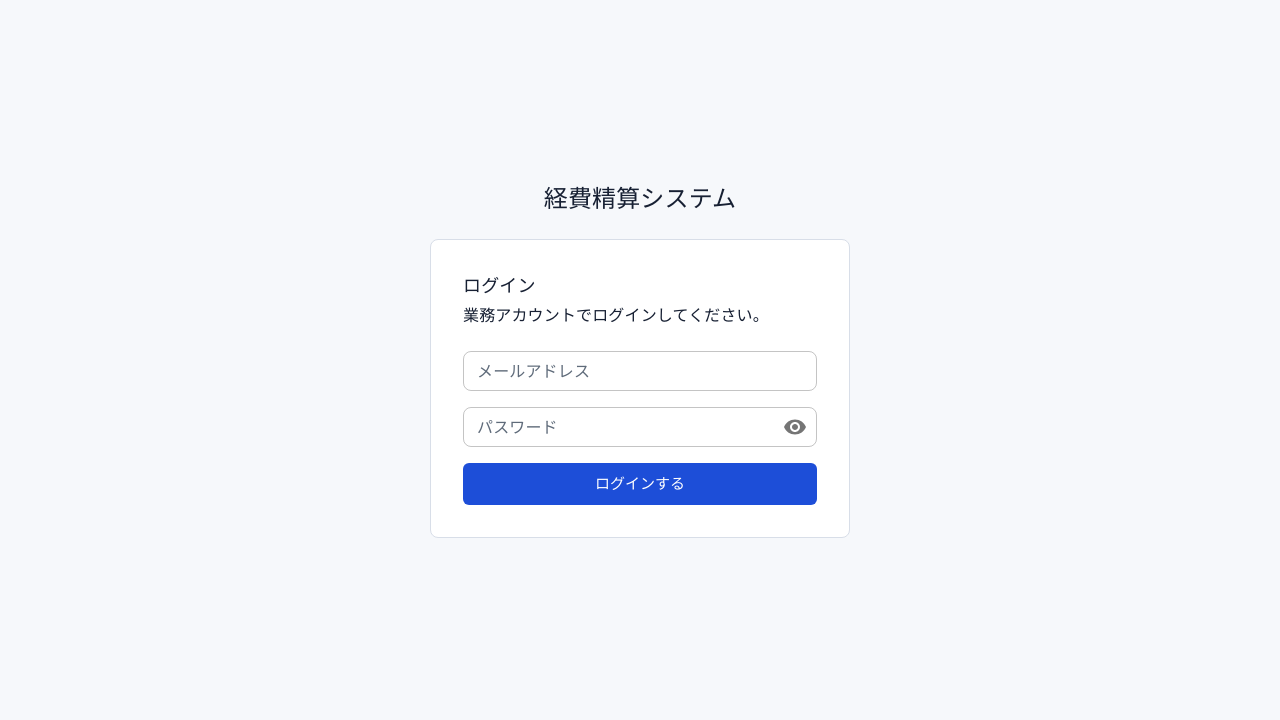
Test: App › 未保存の新規申請で必須項目を検証する
In the field labelled "メールアドレス": point(640, 371) x1=463 y1=351 x2=817 y2=391, type "user@example.com"
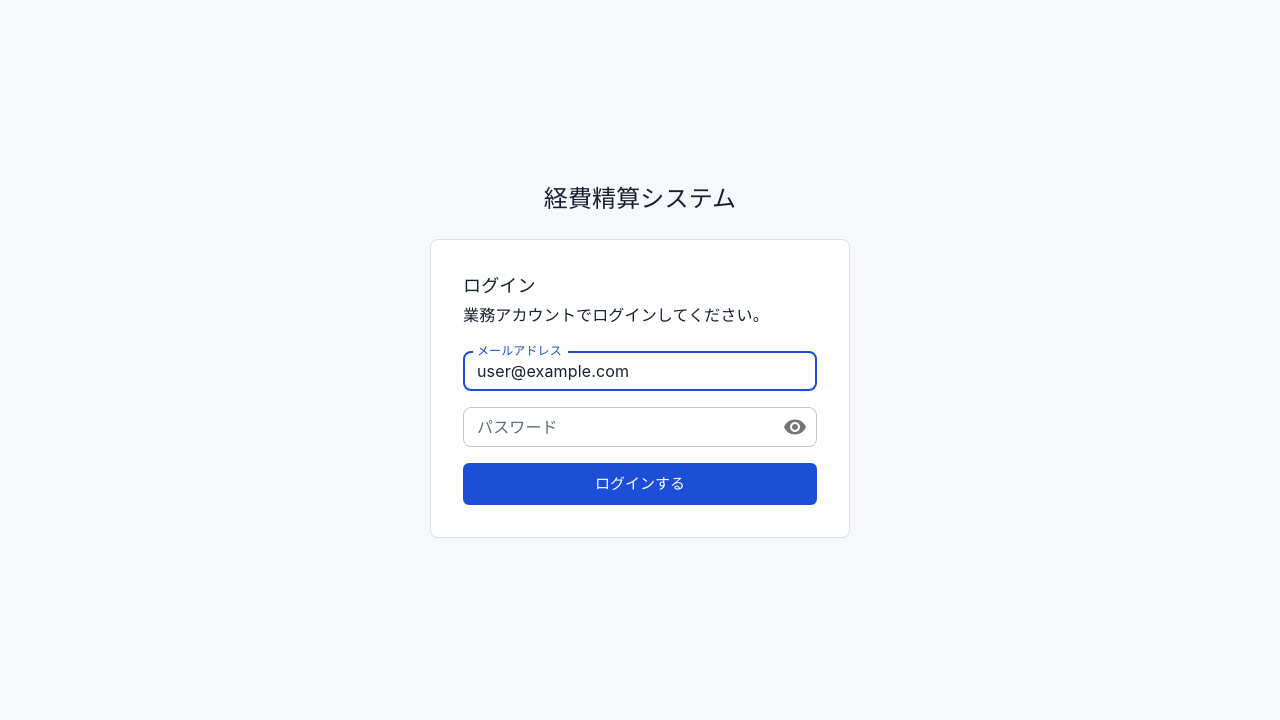
In the password field labelled "パスワード": point(615, 427) x1=463 y1=407 x2=767 y2=447, type "Password123!"
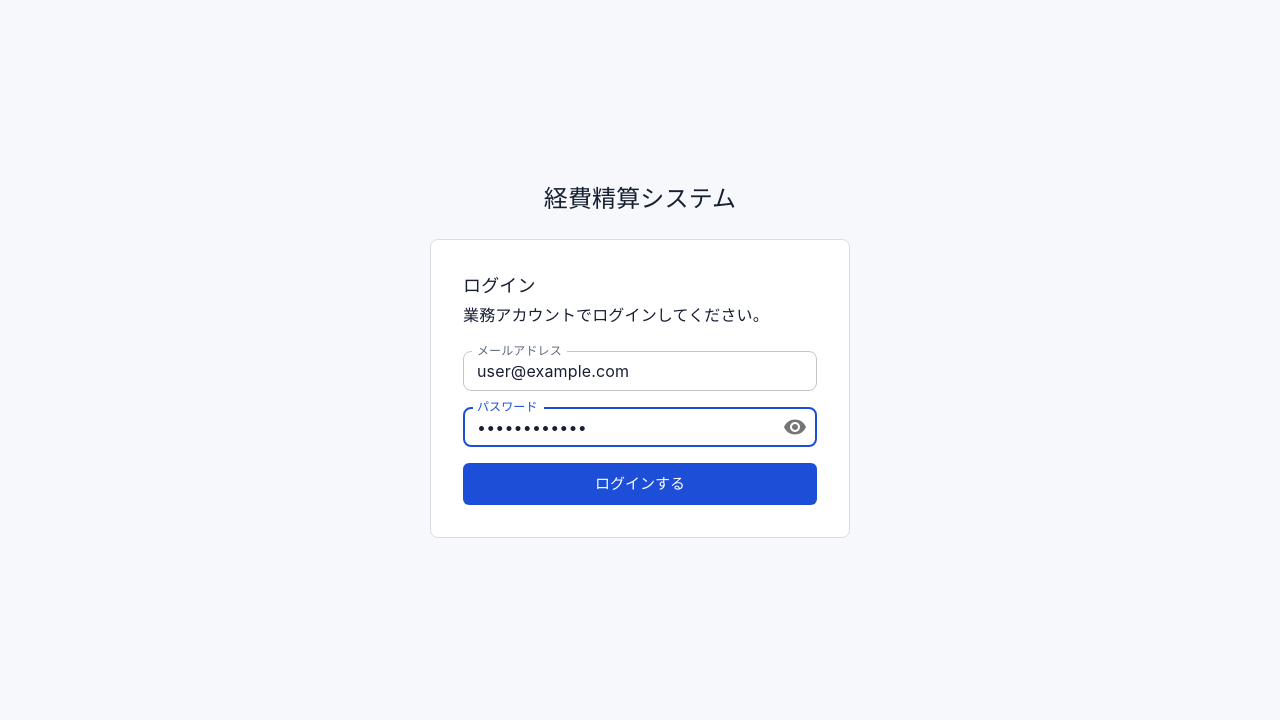
Click the button "ログインする": point(640, 484) x1=463 y1=463 x2=817 y2=506
(page scrolled)
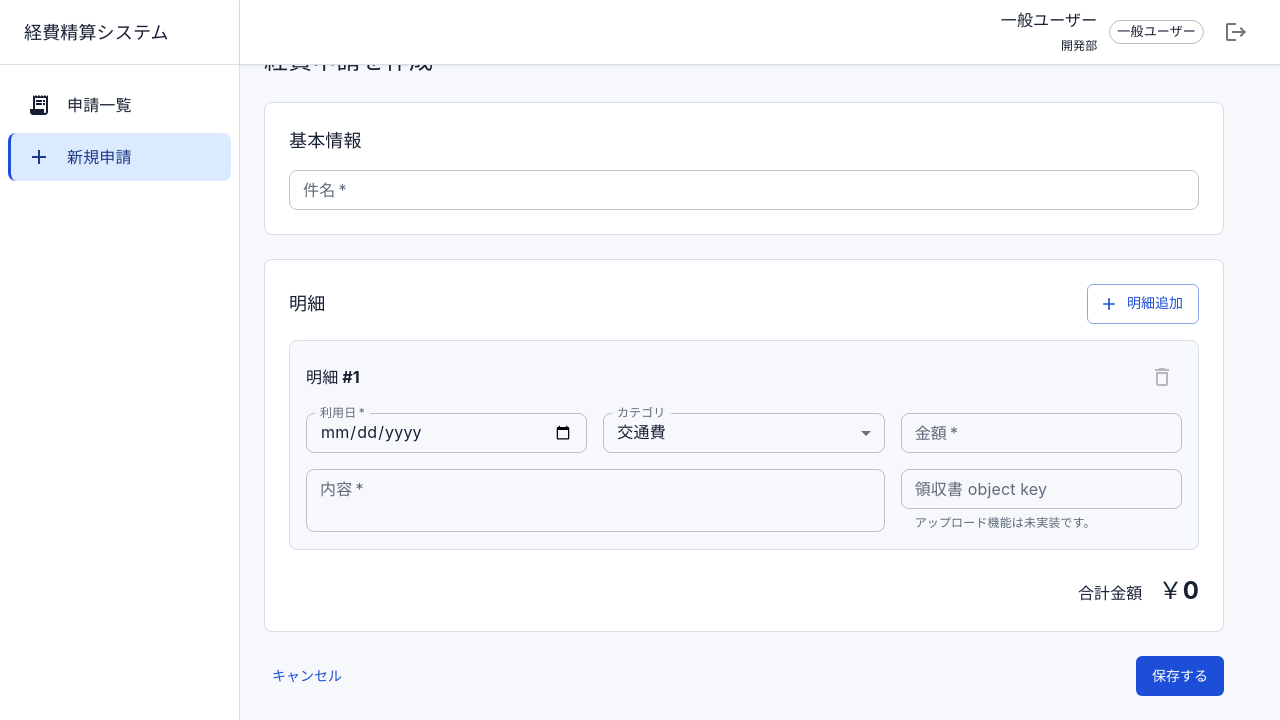
Now the heading "経費申請を作成" is shown, box x1=264 y1=44 x2=433 y2=78
Click the button "保存する": point(1180, 676) x1=1136 y1=656 x2=1224 y2=696
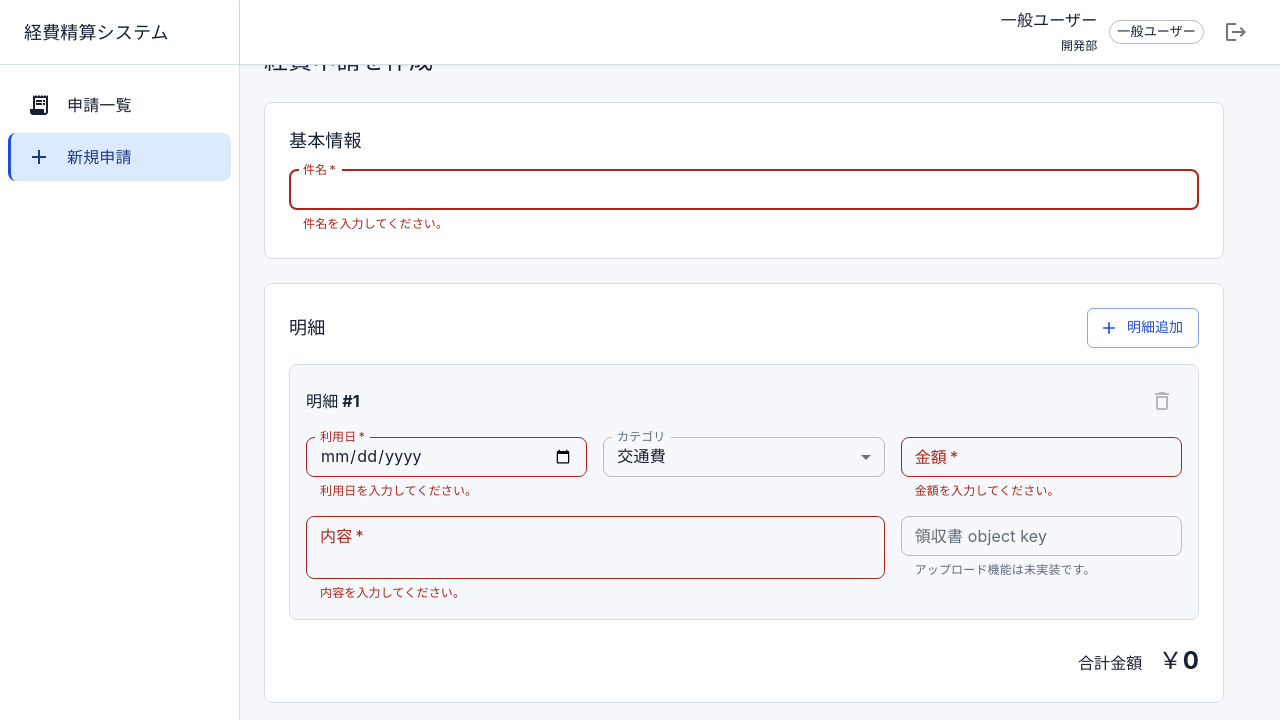
Now the text "件名を入力してください。" is shown, box x1=303 y1=216 x2=448 y2=231
Now the text "利用日を入力してください。" is shown, box x1=320 y1=482 x2=477 y2=498
Now the text "金額を入力してください。" is shown, box x1=915 y1=482 x2=1060 y2=498
